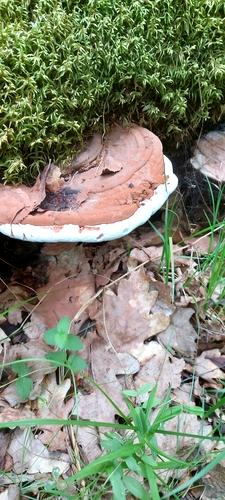Ganoderma - Fruit Body: (0, 118, 183, 258)
